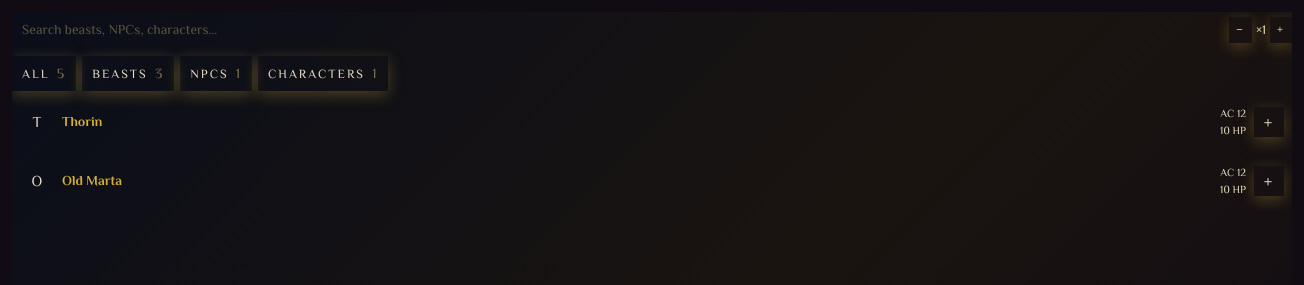
it: CombatantPicker › filters by kind
The image size is (1304, 285).
Step 1. Click the tab "Beasts 3" → x=128, y=73, box x1=82 y1=56 x2=174 y2=91
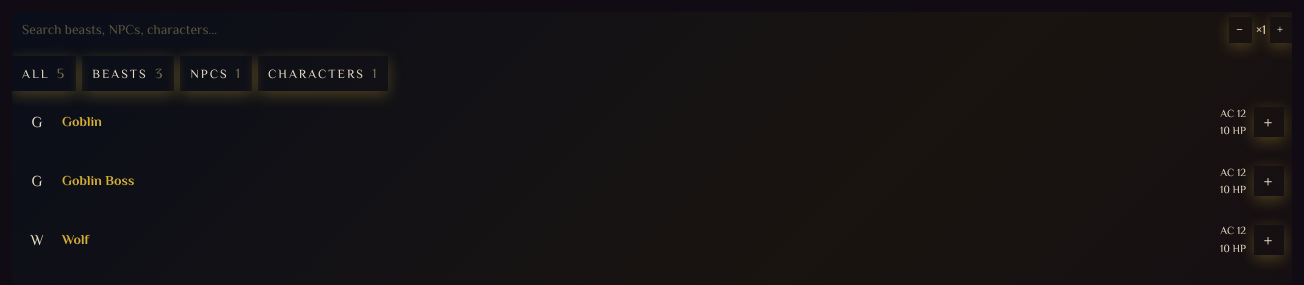
Check: the text "Wolf" is shown, box x1=62 y1=232 x2=89 y2=247
Check: the text "Thorin" is gone
